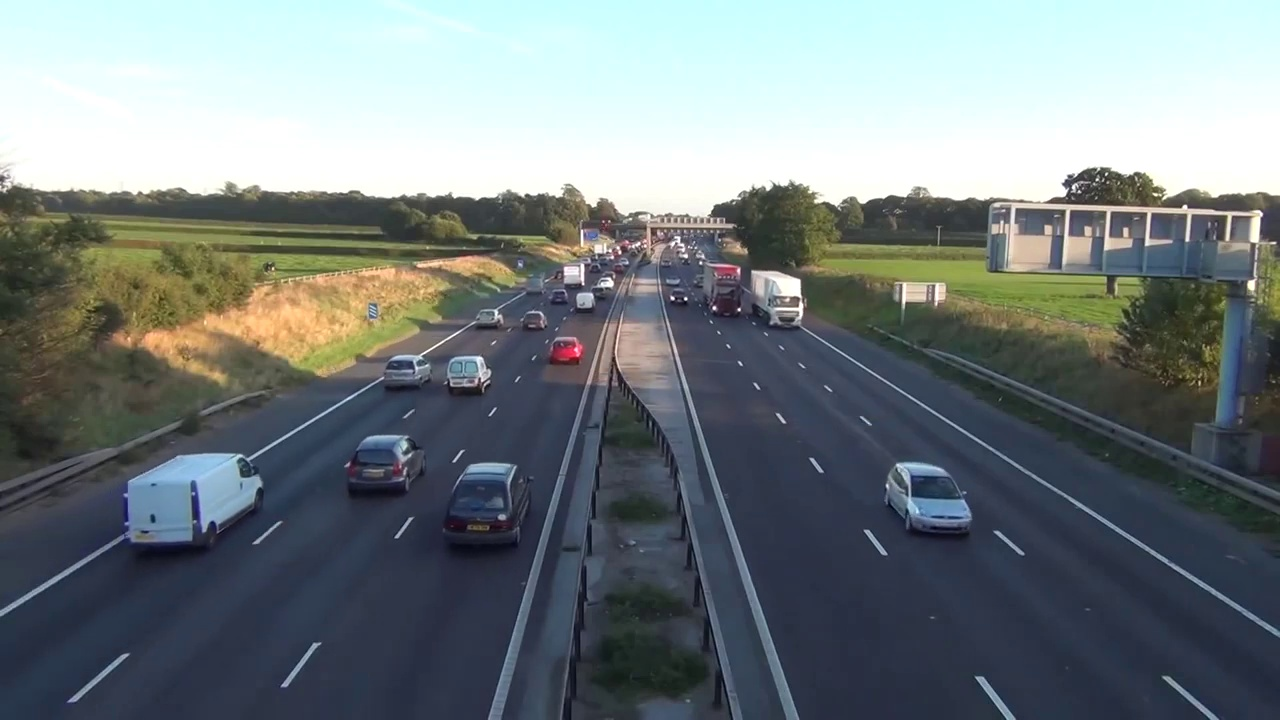bus: (443, 462, 534, 551), (883, 462, 971, 534), (346, 434, 427, 495), (385, 355, 432, 388), (548, 336, 583, 366), (475, 308, 503, 330), (521, 311, 547, 331), (549, 288, 568, 304), (669, 288, 686, 305), (590, 285, 605, 300), (598, 278, 614, 290), (664, 275, 681, 286), (693, 275, 704, 287)
car: (751, 270, 803, 327), (704, 262, 742, 317), (562, 263, 586, 288)
lorry: (121, 451, 265, 552), (446, 357, 491, 396), (575, 292, 594, 312), (526, 276, 544, 295)
